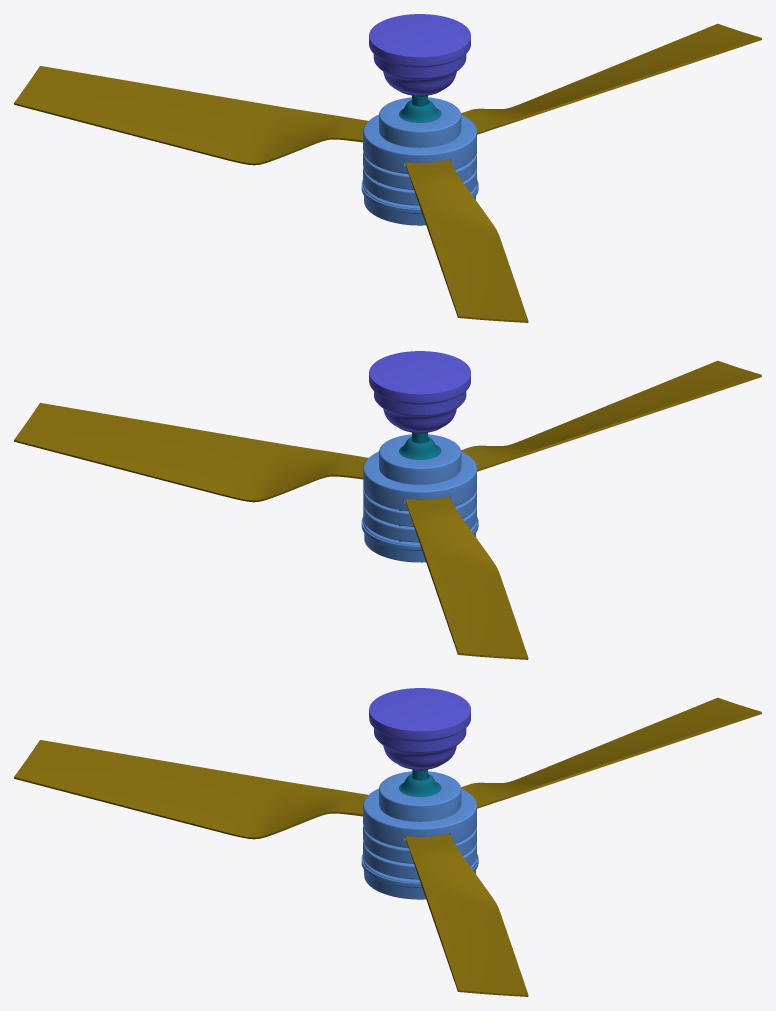
Rendered from Flight 24230EU_OBJ.obj.
The picture shows the model from 3 angles, top to bottom: view 1: azimuth 30°, elevation 25°; view 2: azimuth 150°, elevation 25°; view 3: azimuth 270°, elevation 25°; orthographic projection.
Parts seen in each view (by area): view 1: blade1, blade3, base5, base1, blade2, base4; view 2: blade2, blade1, base5, base1, blade3, base4; view 3: blade3, blade2, base5, base1, blade1, base4.
Part boxes in pixels (x1,y1,x2,y2): blade1: (14,66,367,165); blade3: (404,159,528,322); base5: (361,97,478,225); base1: (369,14,470,95); blade2: (461,23,761,134); base4: (399,99,440,122); blade2: (14,402,367,502); blade1: (404,496,528,659); base5: (361,434,478,562); base1: (369,351,470,432); blade3: (461,360,761,471); base4: (399,436,441,459); blade3: (14,740,367,839); blade2: (404,833,528,996); base5: (361,771,478,899); base1: (369,688,470,769); blade1: (461,697,761,808); base4: (399,773,441,796).
Bounding box in the file's own units: 111 × 28.83 × 116.
